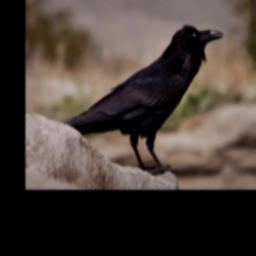Crow: (62, 20, 225, 172)
